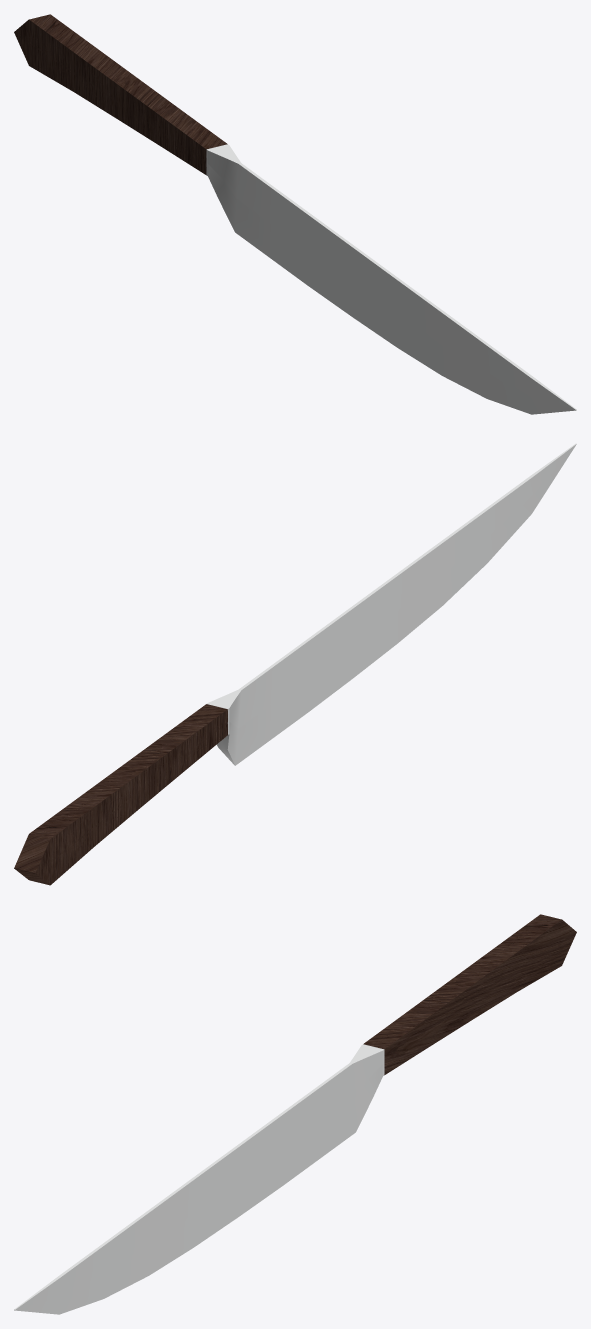
Rendered from Knife.glb.
3 views of the same model, one above another, from view 1: azimuth 30°, elevation 25°; view 2: azimuth 150°, elevation 25°; view 3: azimuth 330°, elevation 25° (orthographic).
Parts seen in each view (by area): view 1: Knife_geo; view 2: Knife_geo; view 3: Knife_geo.
Part boxes in pixels (x1,y1,x2,y2): Knife_geo: (14, 14, 576, 414); Knife_geo: (14, 443, 576, 885); Knife_geo: (14, 914, 576, 1314).
Bounding box in the file's own units: 0.4847 × 1.56 × 21.57.
Materials: 1 (1 with a texture image).
